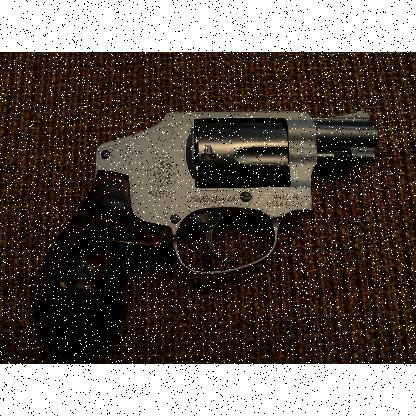gun: (34, 111, 378, 350)
